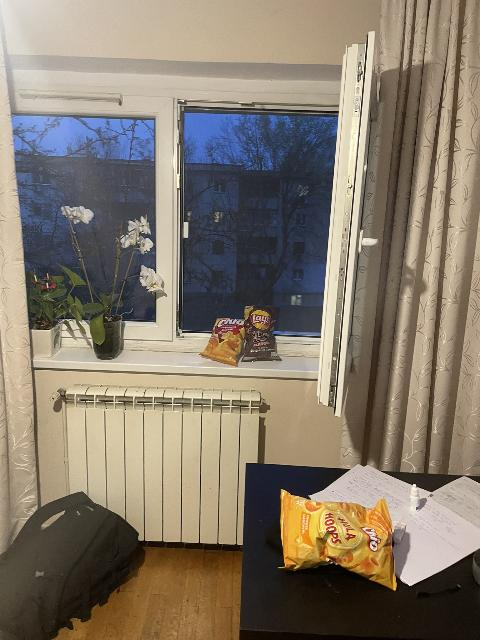Chio Cascaval 125g: (199, 317, 249, 366)
Chio Hula Hoops Cheese 70g: (278, 487, 397, 595)
Lays Beef Grilled Ribs 125g: (244, 305, 285, 362)
